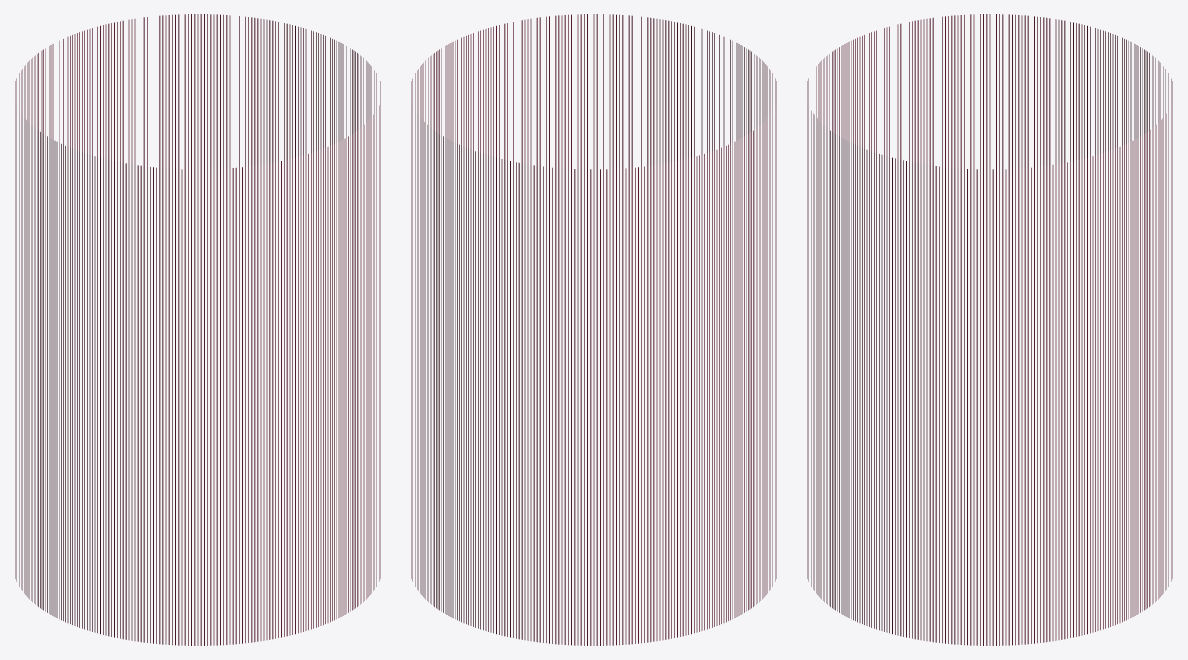
Rendered from grate3.gltf.
3 renders of one model, left to right at view 1: azimuth 30°, elevation 25°; view 2: azimuth 150°, elevation 25°; view 3: azimuth 270°, elevation 25°, orthographic.
Visible parts, largest first — view 1: Plane; view 2: Plane; view 3: Plane.
Part boxes in pixels (x1,y1,x2,y2): Plane: (15, 14, 380, 645); Plane: (411, 14, 776, 645); Plane: (807, 14, 1172, 645).
Size of the model in its own units: 7.47 by 10.67 by 7.47.
